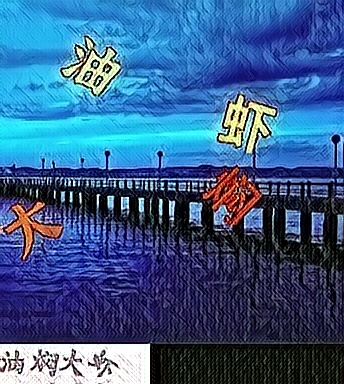B4F3: (4, 197, 70, 261)
CFBA: (214, 93, 280, 157)
D3CD: (59, 30, 125, 94)
ECCB: (197, 162, 263, 226)
